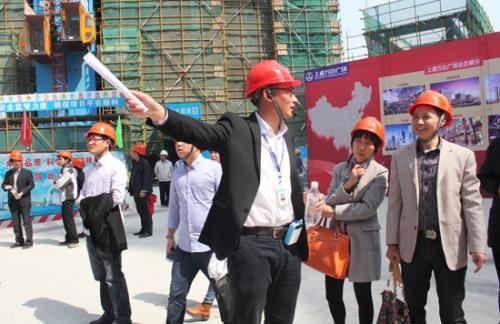boots: (185, 303, 211, 320), (132, 229, 154, 236), (62, 237, 75, 248), (10, 241, 24, 248)
hard-hat: (244, 59, 301, 97), (407, 90, 454, 128), (350, 115, 385, 146), (84, 121, 116, 145), (57, 149, 72, 160), (9, 149, 23, 160), (132, 144, 146, 155)
person: (123, 58, 324, 323), (385, 90, 488, 324), (316, 115, 388, 323), (76, 122, 132, 324), (164, 138, 223, 324), (0, 150, 35, 248), (53, 150, 79, 248), (127, 143, 154, 237)
